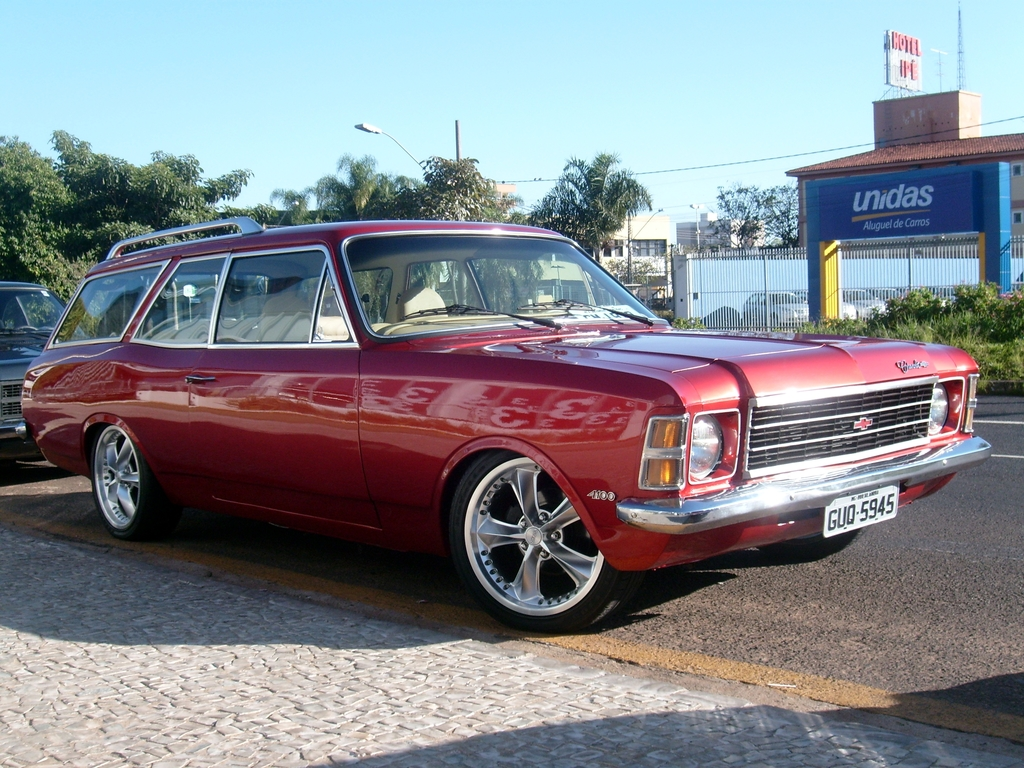car: (40, 186, 1011, 660), (0, 281, 67, 462), (834, 282, 888, 335), (742, 291, 808, 326)
